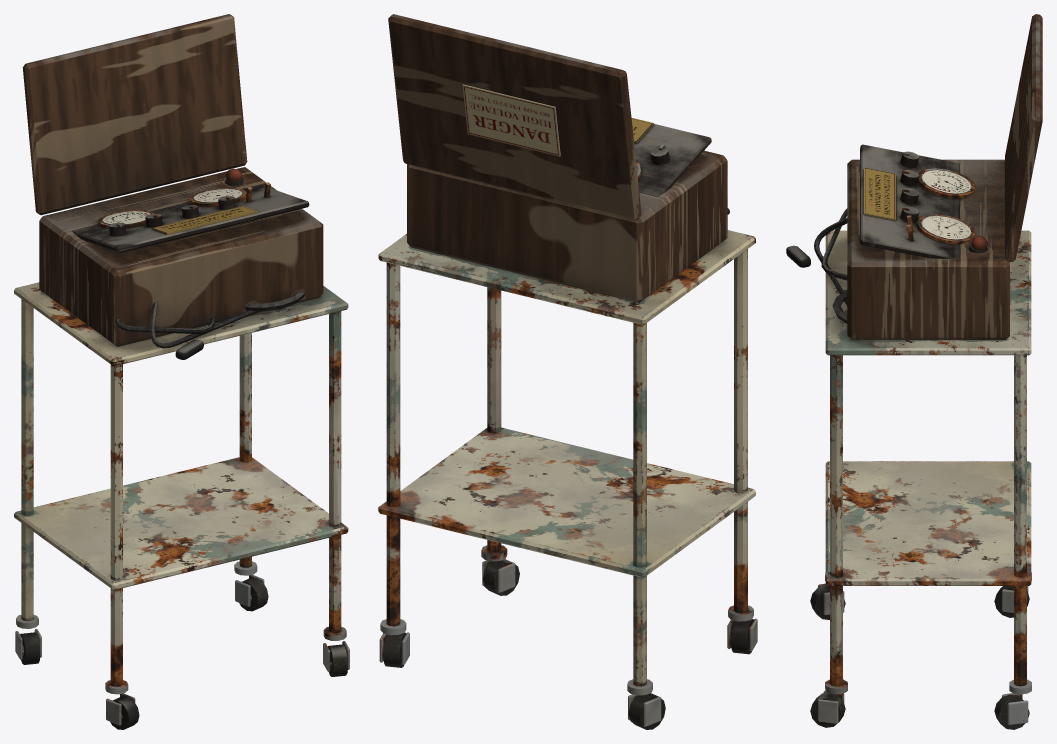
Rendered from ECTMachine.fbx.
The picture shows the model from 3 angles, left to right: view 1: azimuth 30°, elevation 25°; view 2: azimuth 150°, elevation 25°; view 3: azimuth 270°, elevation 25°; orthographic projection. The views are drawn at different scales.
Visible parts, largest first — view 1: ECTMachine; view 2: ECTMachine; view 3: ECTMachine.
Part boxes in pixels (left/top/right/bottom): ECTMachine: left=14, top=14, right=349, bottom=729; ECTMachine: left=378, top=14, right=757, bottom=729; ECTMachine: left=786, top=14, right=1042, bottom=729.
Bounding box in the file's own units: 1.61 × 3.7 × 1.42.
1 material, 1 textured.
